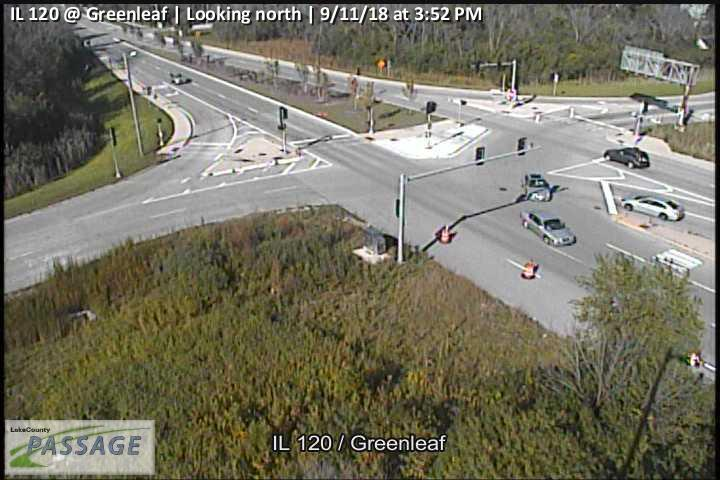SUV: (604, 146, 650, 169)
Sedan: (520, 207, 577, 247), (620, 191, 686, 220), (522, 171, 551, 202)
